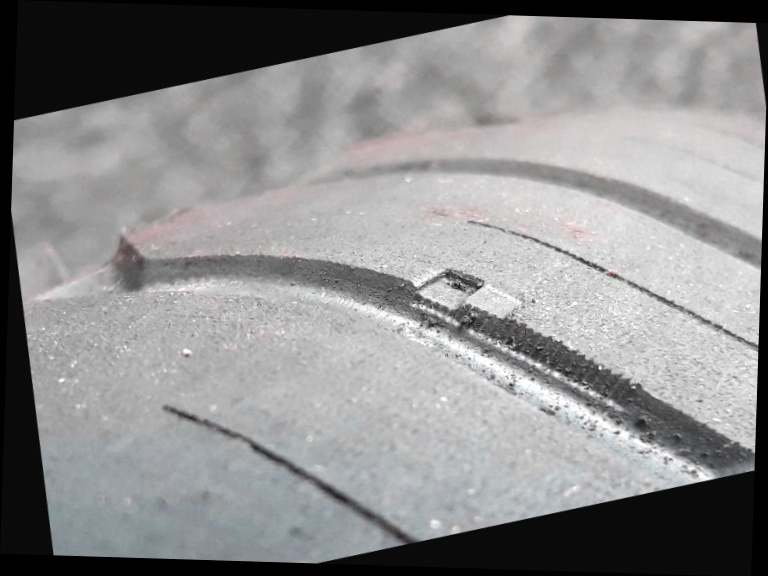temoin:25: (394, 241, 541, 364)
